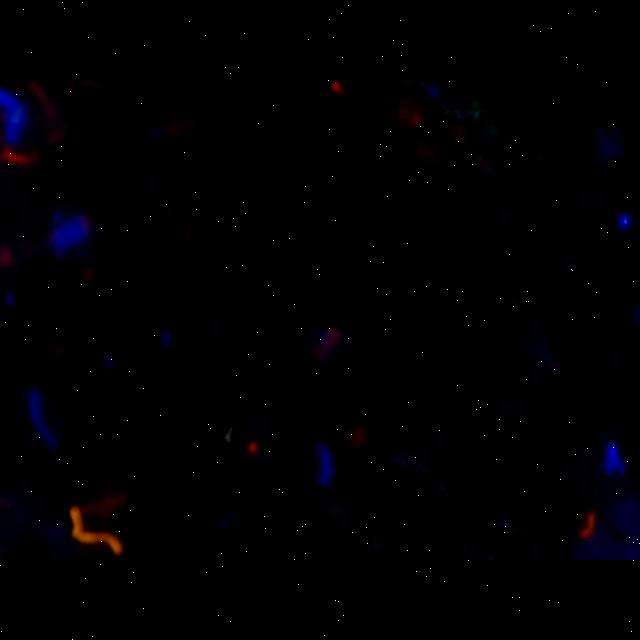Fragment: (70, 508, 124, 554)
